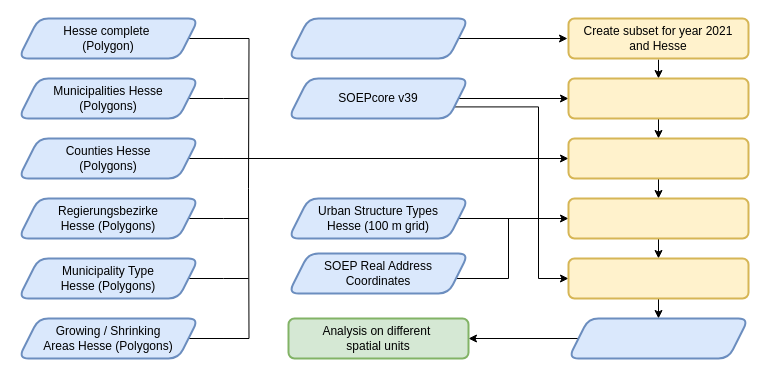
The diagram is 766 pixels wide and 376 high, and some of its shapes have lost their labels. The box of each missing label's shape, as (x1, y1, x2, y2) in pixels:
Household-based data with all needed fields: (567, 317, 749, 359)
Join all extracted survey variables: (567, 257, 749, 299)
Join further spatial identifiers to SOEP households: (567, 137, 749, 179)
Join municipality code (AGS) to SOEP households: (567, 77, 749, 119)
SOEP Structural Dataset: (287, 17, 469, 59)
Spatial join with Urban Structure Types: (567, 197, 749, 239)
